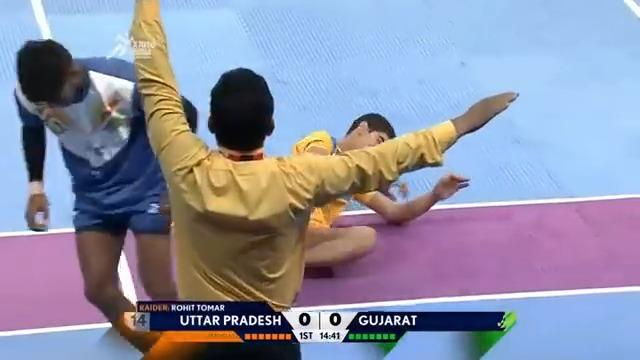Player: (11, 35, 198, 353)
Raider: (290, 111, 404, 274)
referee: (124, 0, 519, 358)
